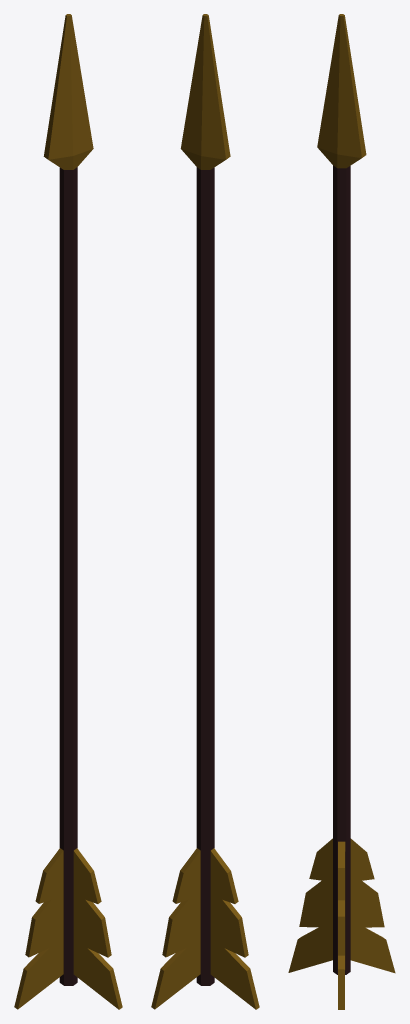
The model's file is Arrow_Golden.obj.
3 views of the same model, side by side, from view 1: azimuth 30°, elevation 25°; view 2: azimuth 150°, elevation 25°; view 3: azimuth 330°, elevation 25° (orthographic).
Visible parts, largest first — view 1: Arrow_Golden_Cylinder.008; view 2: Arrow_Golden_Cylinder.008; view 3: Arrow_Golden_Cylinder.008.
Part boxes in pixels (<box>): Arrow_Golden_Cylinder.008: <box>14,14,122,1009</box>; Arrow_Golden_Cylinder.008: <box>151,14,259,1009</box>; Arrow_Golden_Cylinder.008: <box>288,14,395,1009</box>.
Bounding box in the file's own units: 0.0736 × 0.8445 × 0.0847.
